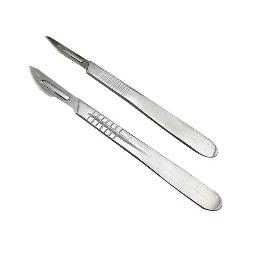scalpel: (28, 64, 222, 210), (44, 36, 218, 158)
